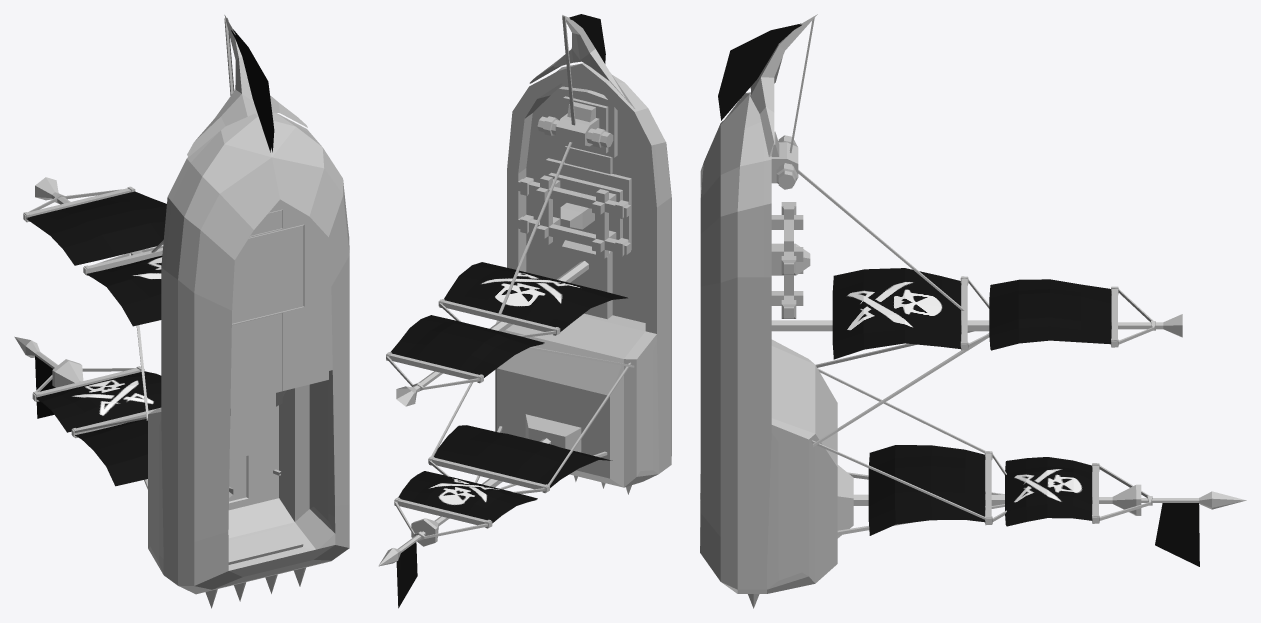
The model's file is main_1_1.fbx.
3 views of the same model, side by side, from view 1: azimuth 30°, elevation 25°; view 2: azimuth 150°, elevation 25°; view 3: azimuth 270°, elevation 25° (orthographic). The views are drawn at different scales.
Visible parts, largest first — view 1: Cube.590; view 2: Cube.590; view 3: Cube.590.
Boxes of the visible parts, x1,y1,x2,y2 form: Cube.590: [14, 15, 349, 608]; Cube.590: [378, 14, 671, 608]; Cube.590: [700, 14, 1246, 608].
Bounding box in the file's own units: 384 × 1199 × 1037.
